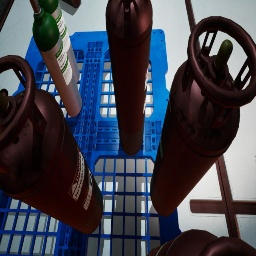0: (29, 0, 82, 117), (38, 0, 80, 84)
NitrogenTank ,: (150, 16, 256, 217), (0, 55, 103, 234), (105, 0, 153, 156), (146, 229, 256, 256), (61, 0, 81, 8)
